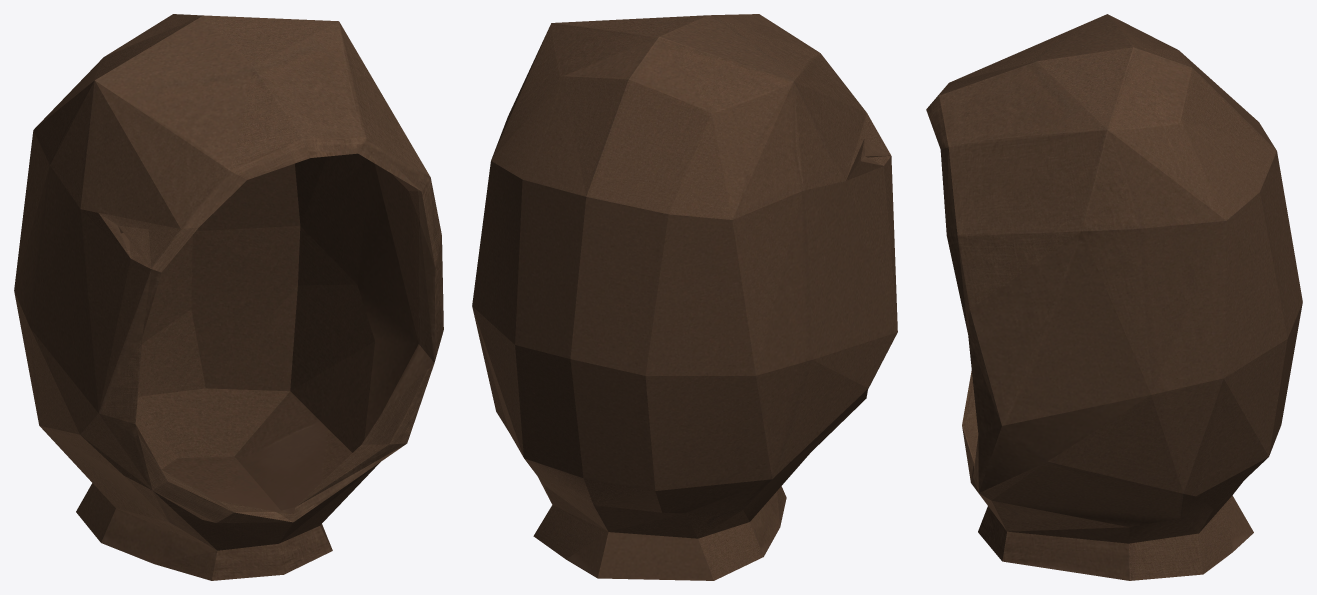
The model's file is cloth_hood.glb.
3 views of the same model, side by side, from view 1: azimuth 30°, elevation 25°; view 2: azimuth 150°, elevation 25°; view 3: azimuth 270°, elevation 25° (orthographic). The views are drawn at different scales.
Visible parts, largest first — view 1: output_unwrapped; view 2: output_unwrapped; view 3: output_unwrapped.
Boxes of the visible parts, x1,y1,x2,y2 form: output_unwrapped: (14, 14, 443, 580); output_unwrapped: (472, 14, 897, 580); output_unwrapped: (926, 14, 1302, 580).
Size of the model in its own units: 1.37 by 1.9 by 1.34.
Materials: 1 (1 with a texture image).
